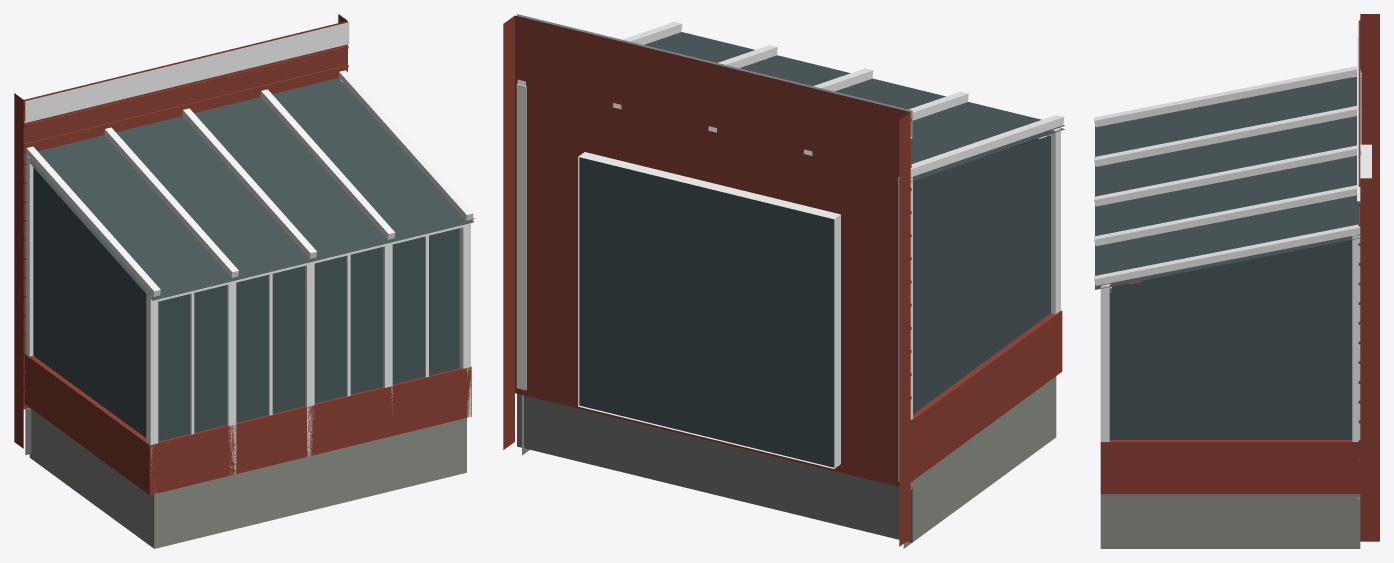
Rendered from base-stair_close.fbx.
3 renders of one model, left to right at view 1: azimuth 30°, elevation 25°; view 2: azimuth 150°, elevation 25°; view 3: azimuth 270°, elevation 25°, orthographic. The views are drawn at different scales.
Parts seen in each view (by area): view 1: a2000/200/base-stair_close; view 2: a2000/200/base-stair_close; view 3: a2000/200/base-stair_close.
Part boxes in pixels (bbox=[...]): a2000/200/base-stair_close: bbox=[14, 14, 473, 548]; a2000/200/base-stair_close: bbox=[503, 14, 1064, 548]; a2000/200/base-stair_close: bbox=[1094, 14, 1379, 548].
Size of the model in its own units: 3.4 by 3.6 by 2.5.
